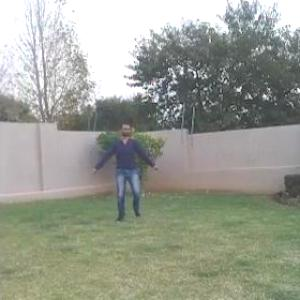land: (86, 105, 166, 234)
